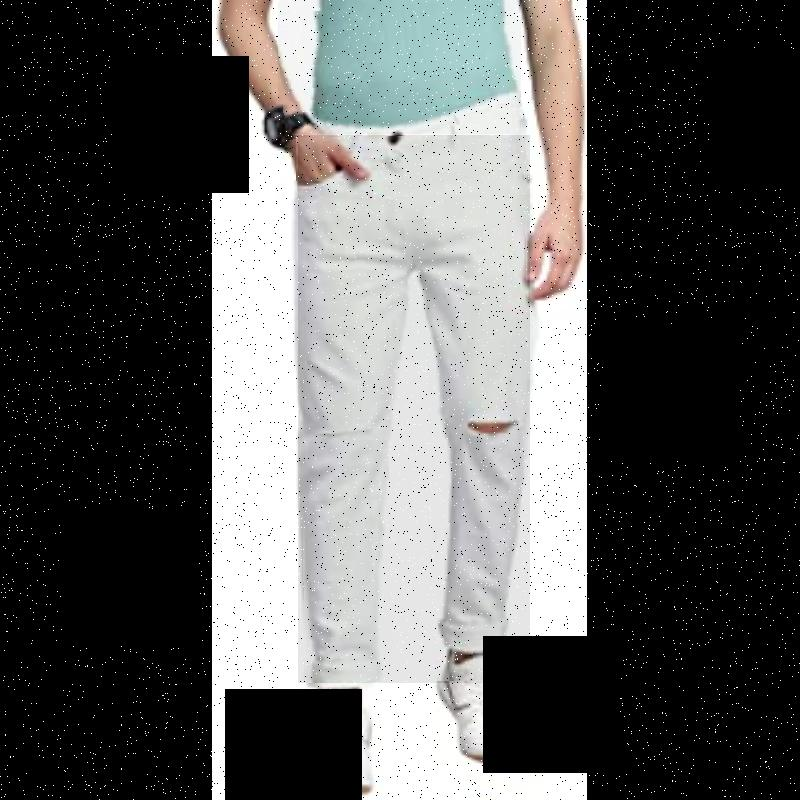Jeans: (298, 135, 530, 683)
Tshirt: (278, 0, 521, 134)
